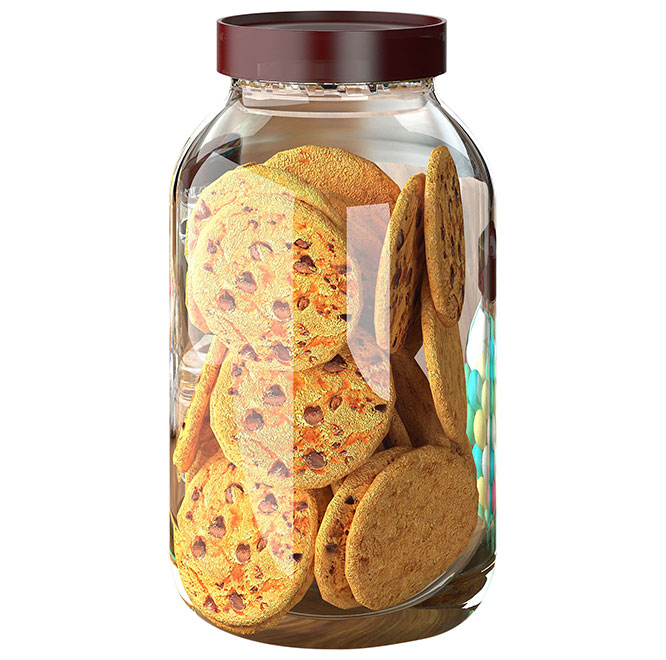Rec_Glass: (145, 4, 500, 650)
